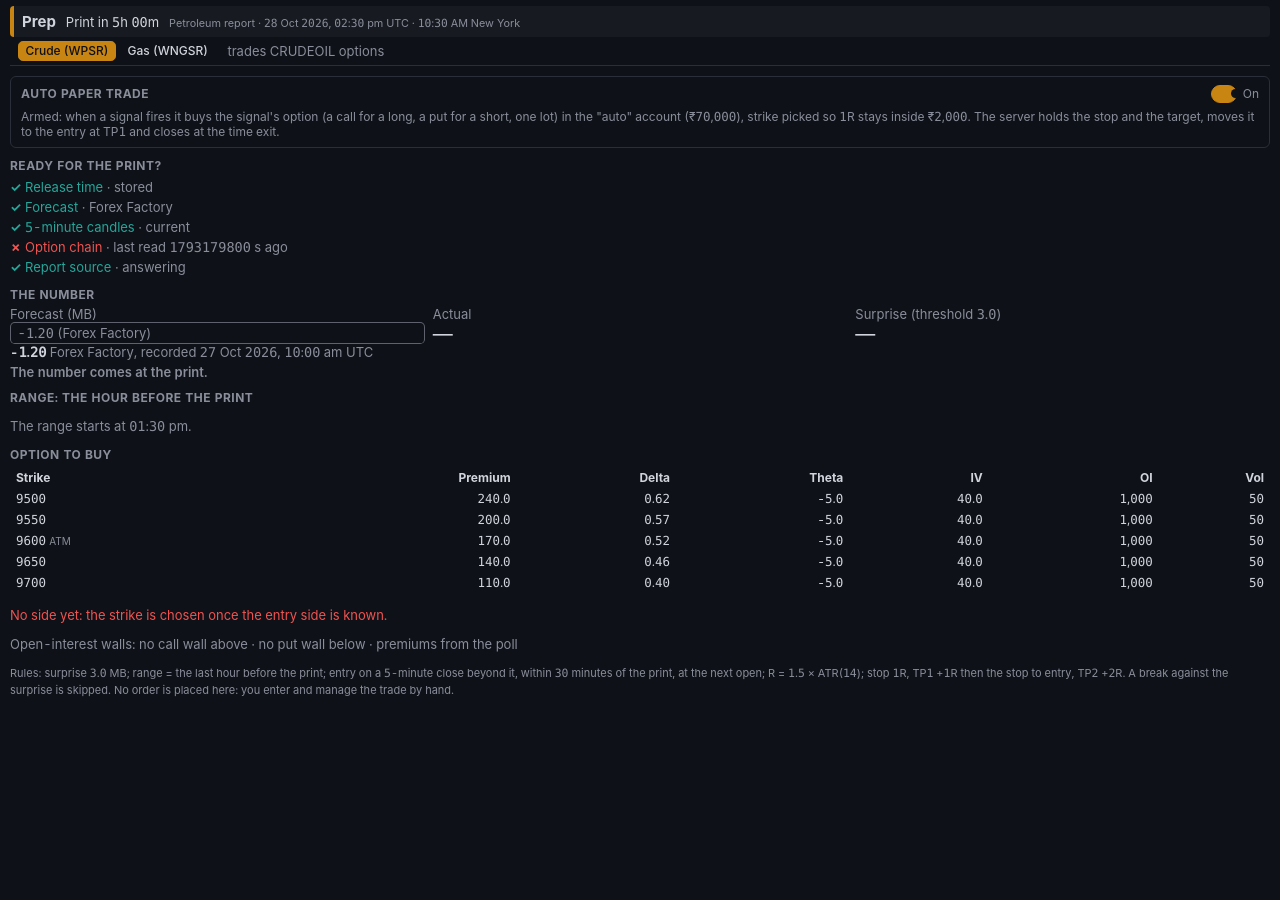
a forecast recorded for the release wins over the consensus, and a typed one over both
Type "-2.5" into the field named "Forecast of the change" at point(217, 333), box x1=10 y1=322 x2=425 y2=344
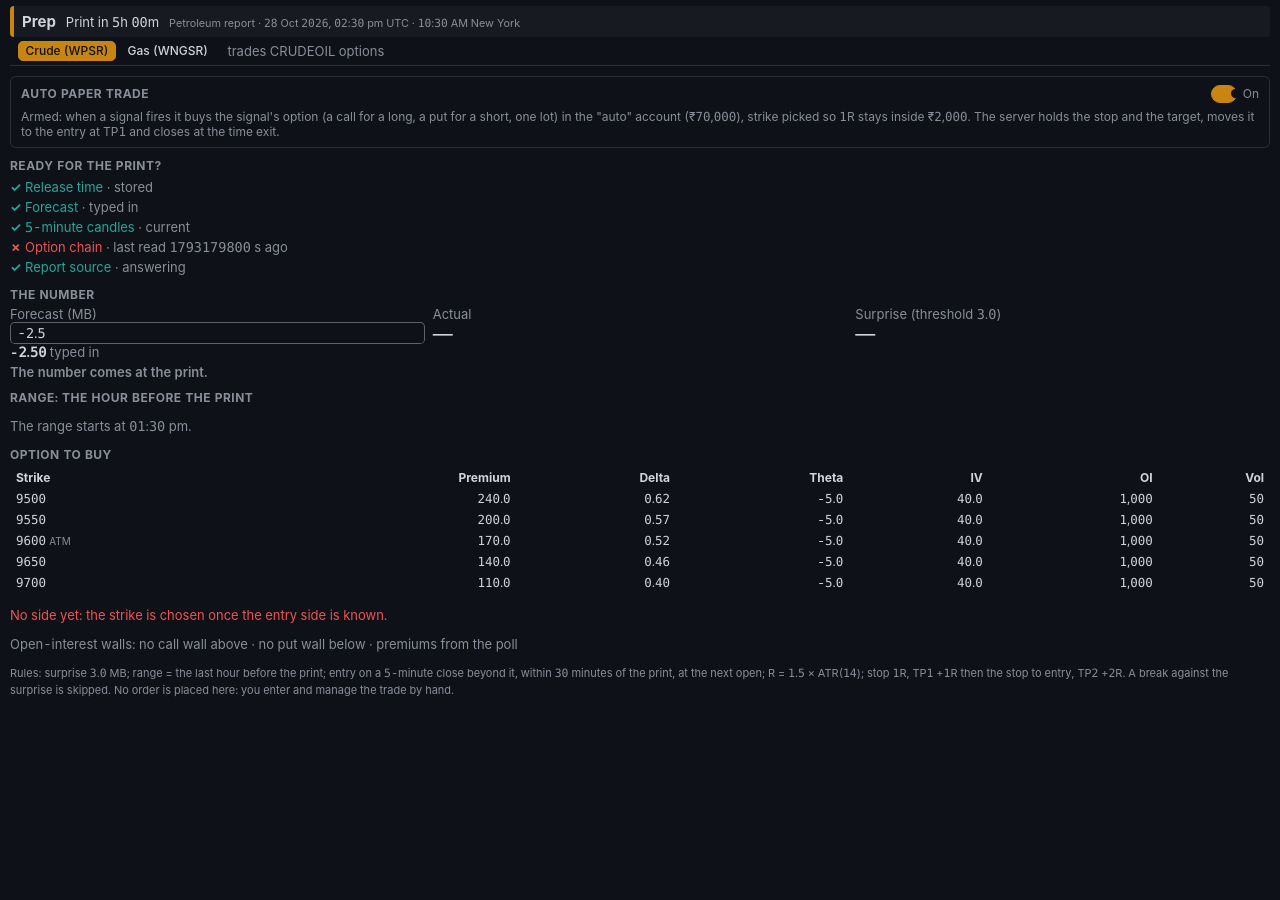
Now the list with class "rd-ready" shows "typed in", box x1=89 y1=198 x2=138 y2=214
